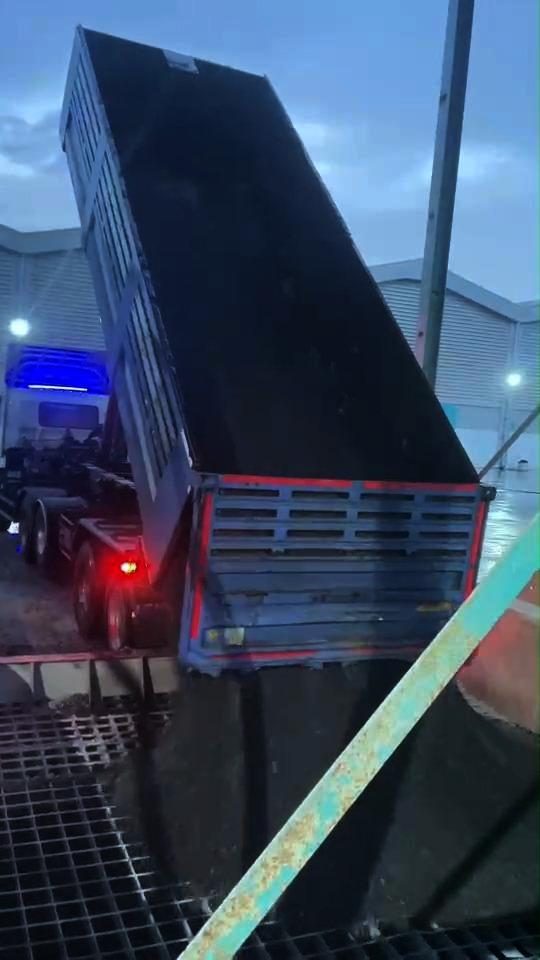gravel: (107, 662, 403, 900), (130, 177, 361, 476), (278, 686, 537, 932)
